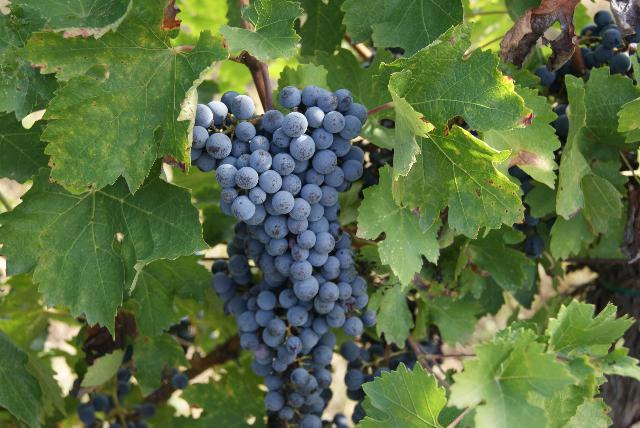grapes: (190, 85, 378, 330)
